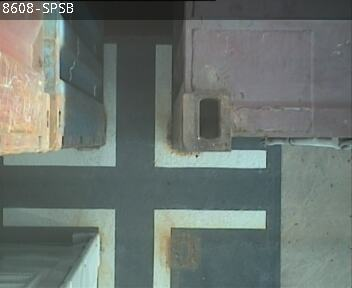groundmarker_1: (5, 45, 264, 168), (2, 208, 265, 288)
